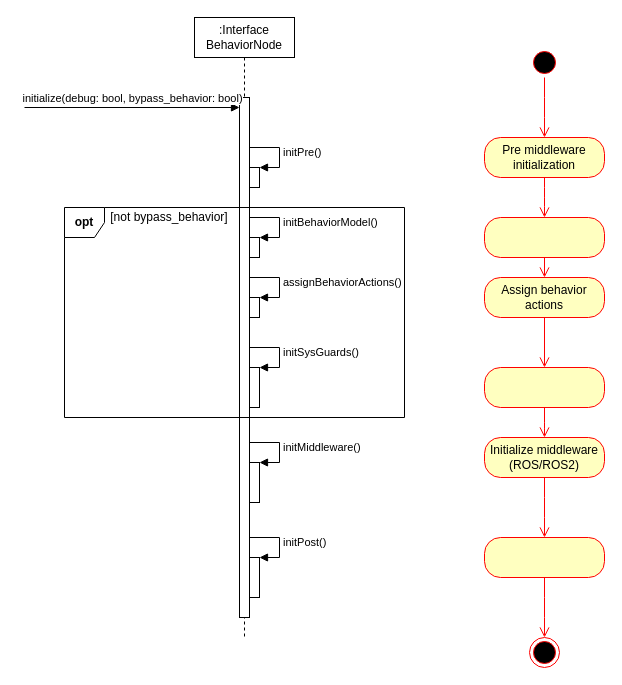
Image size: 622x685. Some labels were removed from this diagram. The centre of each missing label's shape, as x and y in pixels:
Initialize system guards (behavior, sys, etc.): point (544, 387)
Post initialization steps: point (544, 557)
Setup behavior model: point (544, 237)
